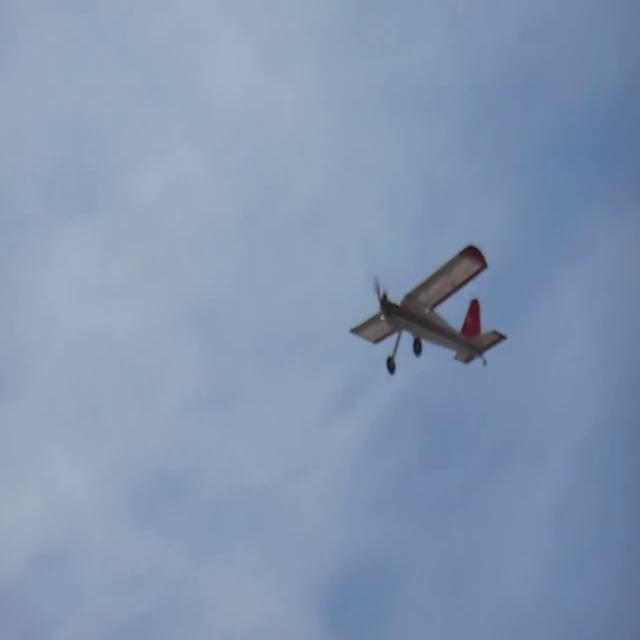iha: (348, 247, 508, 375)
